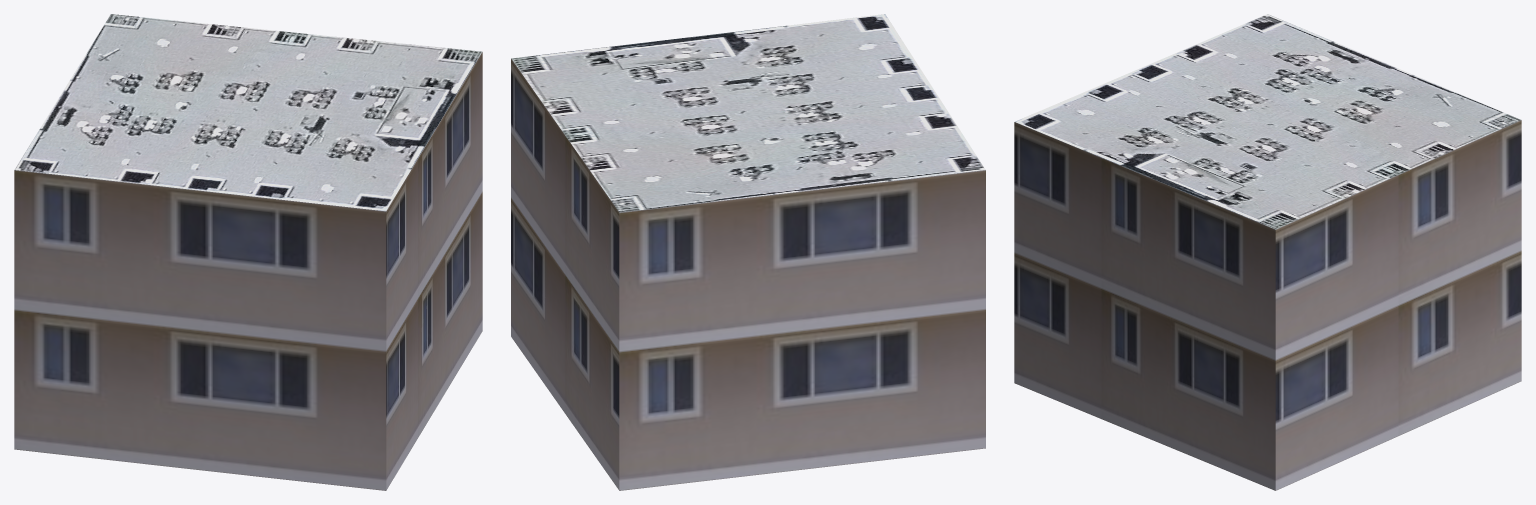
The model's file is ResTex__1765.fbx.
The picture shows the model from 3 angles, left to right: view 1: azimuth 30°, elevation 25°; view 2: azimuth 150°, elevation 25°; view 3: azimuth 270°, elevation 25°; orthographic projection. The views are drawn at different scales.
Parts seen in each view (by area): view 1: CityEngineMaterial_21_m, CityEngineMaterial_m; view 2: CityEngineMaterial_21_m, CityEngineMaterial_m; view 3: CityEngineMaterial_21_m, CityEngineMaterial_m.
Boxes of the visible parts, x1,y1,x2,y2 form: CityEngineMaterial_21_m: [14, 52, 482, 490]; CityEngineMaterial_m: [14, 14, 481, 211]; CityEngineMaterial_21_m: [511, 58, 985, 490]; CityEngineMaterial_m: [511, 14, 985, 212]; CityEngineMaterial_21_m: [1014, 120, 1521, 490]; CityEngineMaterial_m: [1015, 14, 1520, 229].
Size of the model in its own units: 10.61 by 6 by 10.55.
2 materials, 2 textured.
